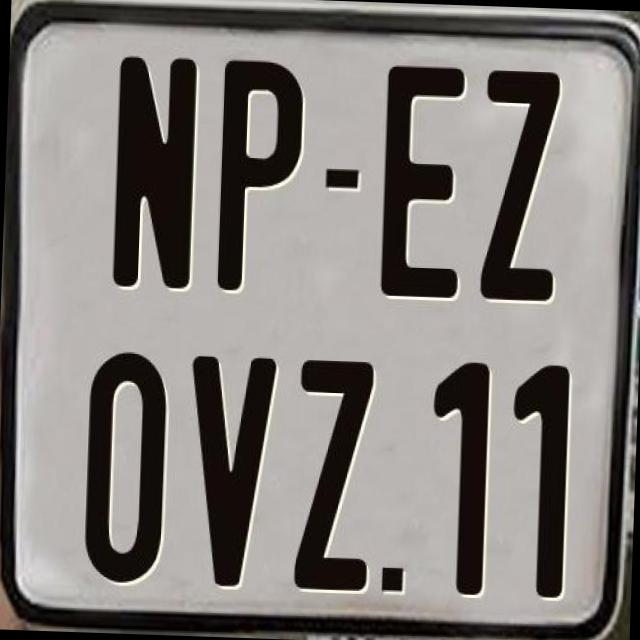0: (82, 350, 174, 586)
1: (424, 359, 488, 593), (504, 363, 566, 599)
E: (376, 61, 470, 296)
N: (108, 50, 196, 292)
P: (214, 57, 301, 295)
V: (180, 353, 274, 588)
Z: (289, 358, 372, 597), (478, 65, 558, 299)
